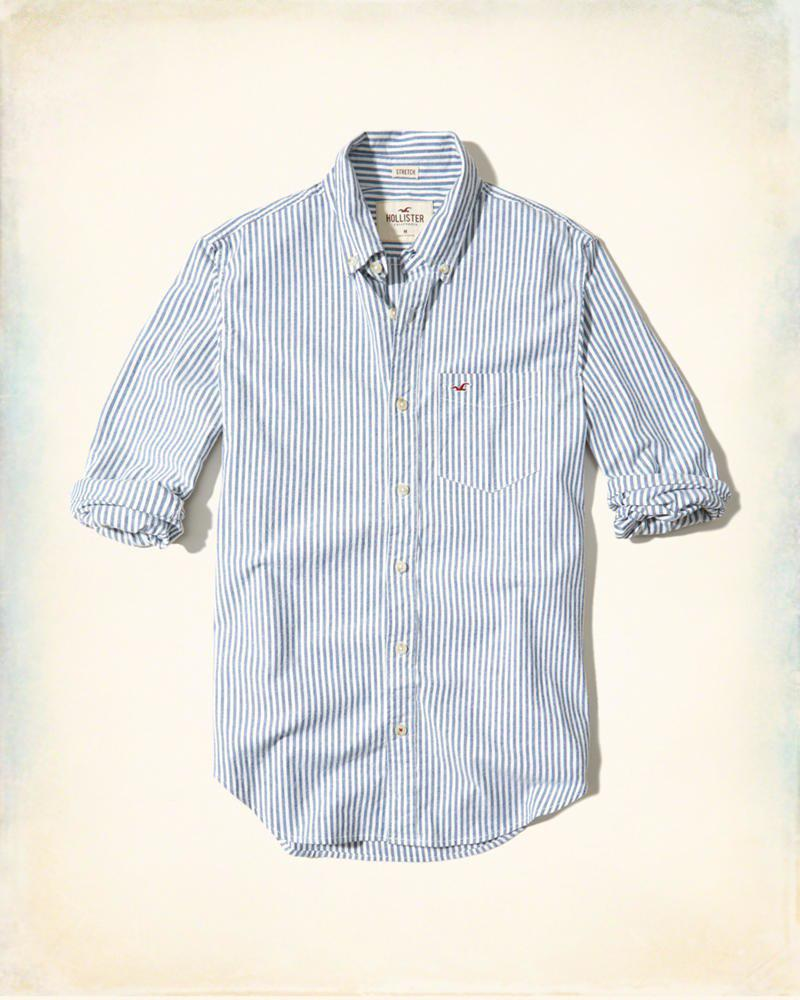teeshirt: (85, 121, 744, 854)
